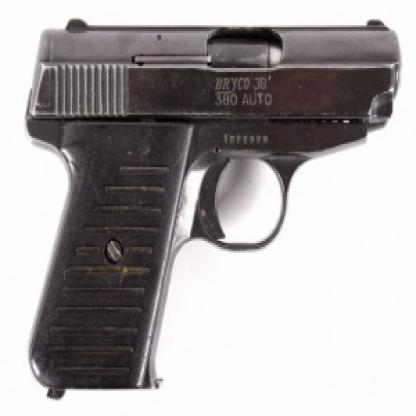Guns: (20, 8, 402, 398)
